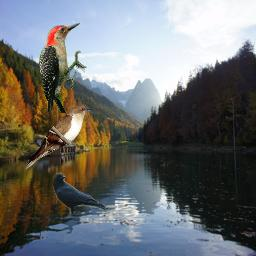Crow: (53, 172, 109, 218)
Cuckoo: (26, 105, 93, 170)
Woodpecker: (39, 23, 87, 113)
